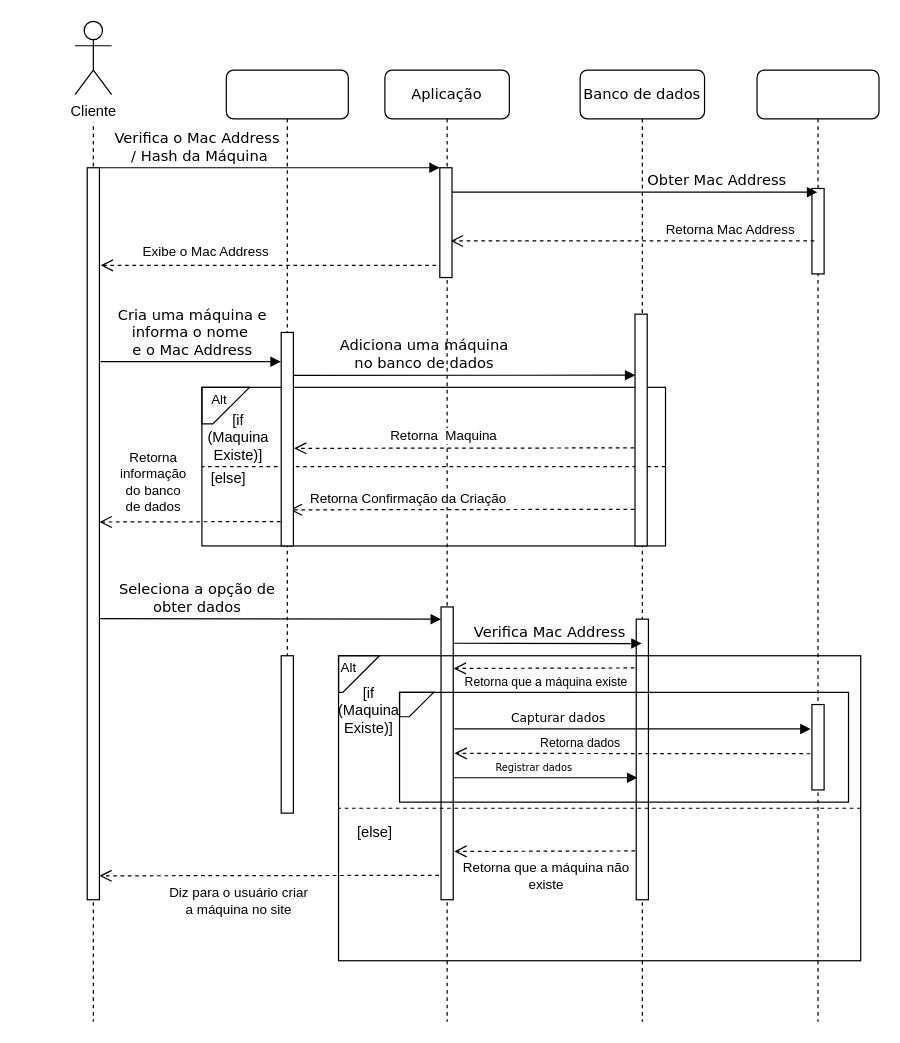
The diagram is 900 pixels wide and 1043 high, and some of its shapes have lost their labels. Here are the shapes that lost their labels. From the top down, the box of each, then its label:
(225, 69, 348, 778): Site
(756, 69, 879, 1022): Sistema Operacional
(398, 691, 434, 717): loop
